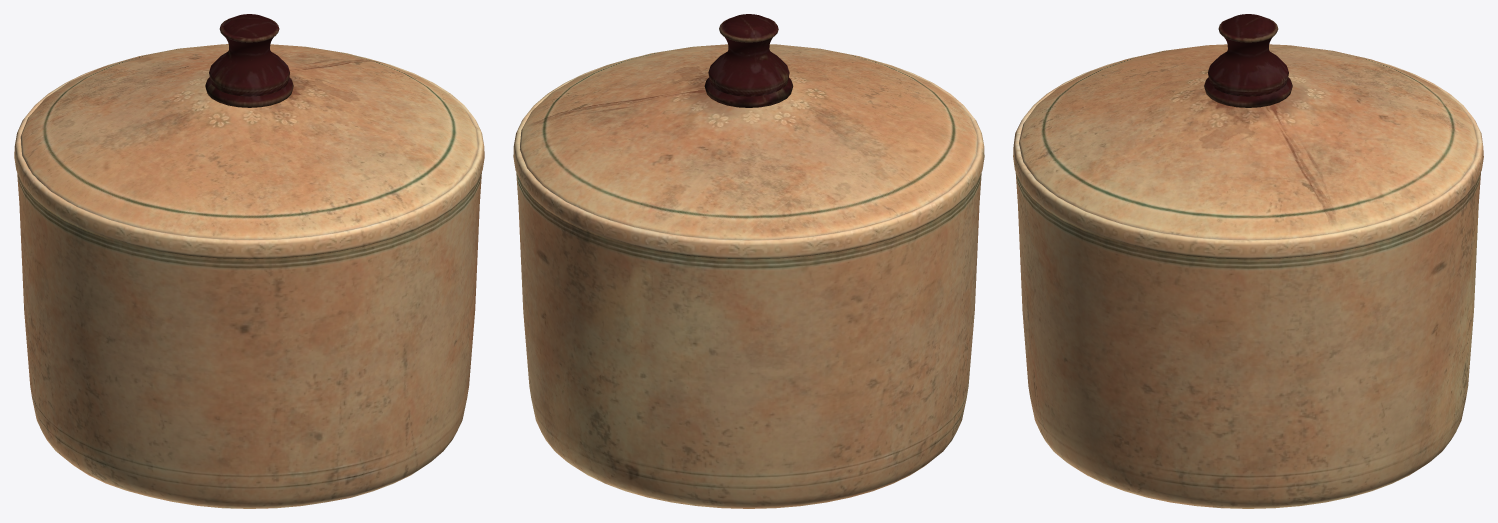
Rendered from brass_pot_01_1k.gltf.
3 views of the same model, side by side, from view 1: azimuth 30°, elevation 25°; view 2: azimuth 150°, elevation 25°; view 3: azimuth 270°, elevation 25° (orthographic).
Visible parts, largest first — view 1: brass_pot_01; view 2: brass_pot_01; view 3: brass_pot_01.
Part boxes in pixels (x1,y1,x2,y2): brass_pot_01: (14, 14, 484, 508); brass_pot_01: (513, 14, 984, 508); brass_pot_01: (1013, 14, 1483, 508).
Size of the model in its own units: 0.3019 by 0.2909 by 0.3017.
1 material, 1 textured.
